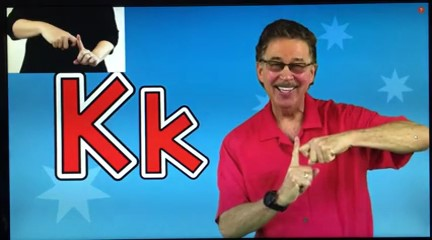K: (276, 127, 352, 211)
